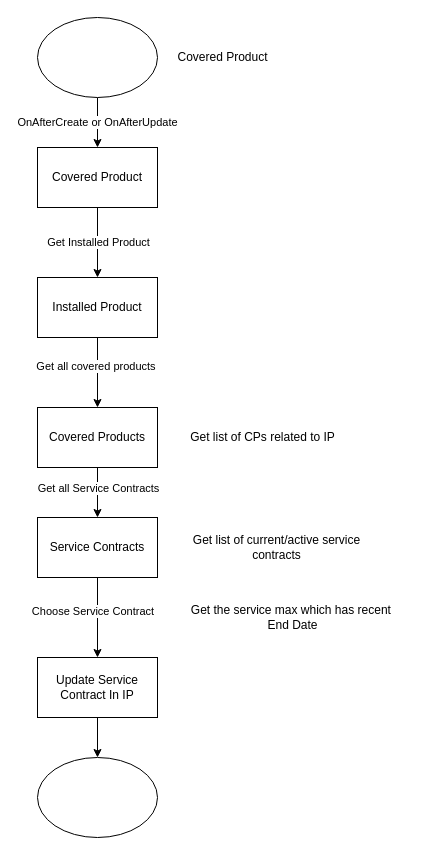
Image size: 425x855. Some labels were removed from this diagram. Here are the shapes that lost their labels. From the top down, the centre of each, then its label:
At [97,57]: "Start".
At [97,797]: "Stop".
